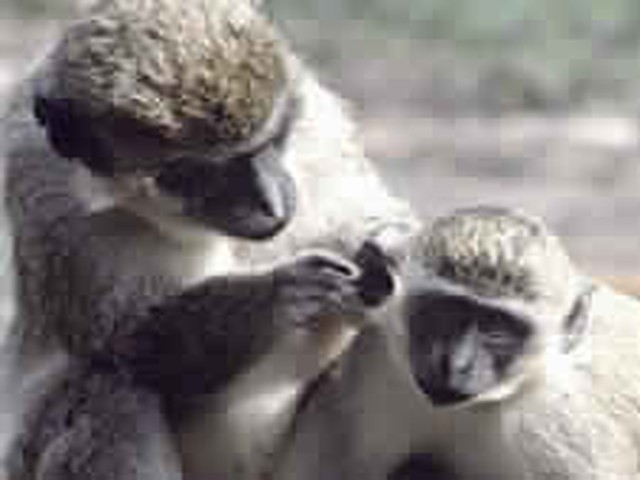Monkey: (2, 2, 640, 474)
